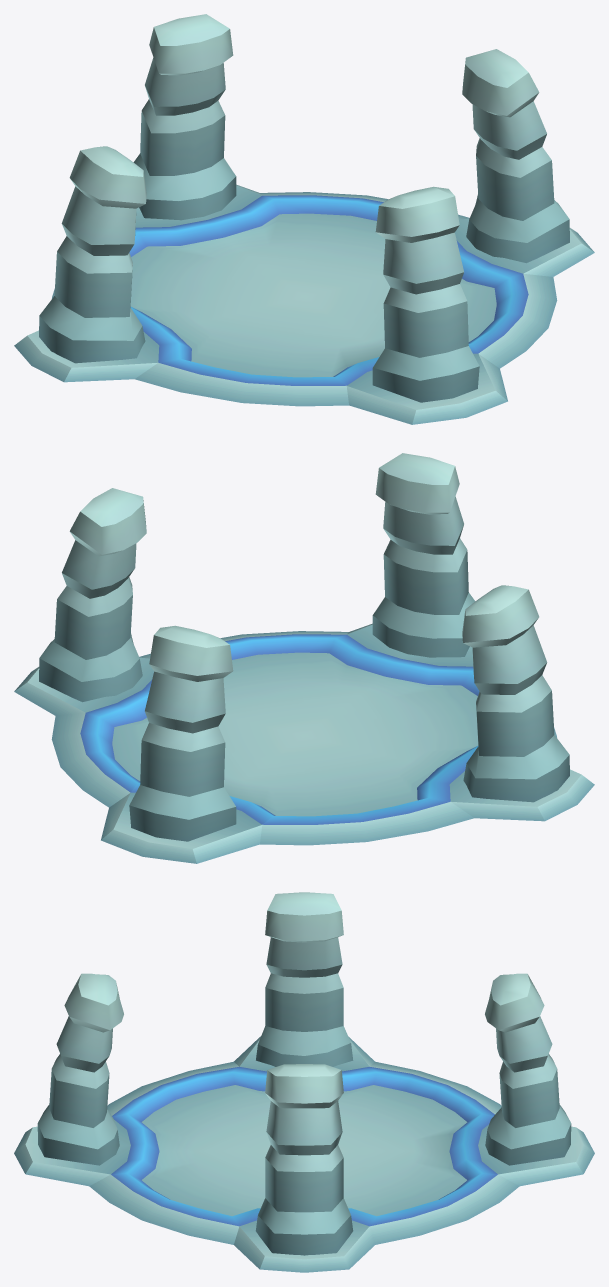
The model's file is env_Portal_Plartform_v02.fbx.
3 views of the same model, one above another, from view 1: azimuth 30°, elevation 25°; view 2: azimuth 150°, elevation 25°; view 3: azimuth 270°, elevation 25° (orthographic). The views are drawn at different scales.
Parts seen in each view (by area): view 1: Statues_x4, Portal_Platform; view 2: Statues_x4, Portal_Platform; view 3: Portal_Platform, Statues_x4.
Boxes of the visible parts, x1,y1,x2,y2 form: Statues_x4: (39,14,569,402); Portal_Platform: (14,184,594,424); Statues_x4: (39,453,569,841); Portal_Platform: (14,623,594,863); Portal_Platform: (14,1036,594,1272); Statues_x4: (37,892,571,1255).
Bounding box in the file's own units: 902 × 305 × 927.
